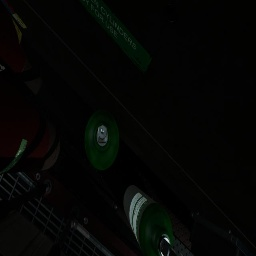0: (123, 185, 177, 256), (84, 110, 119, 170)
NitrogenTank ,: (0, 76, 60, 174), (0, 0, 43, 99)
